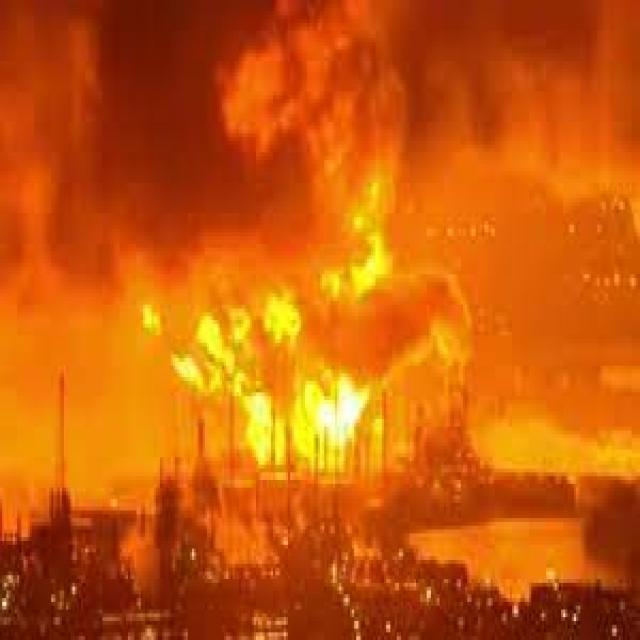fire: (177, 228, 414, 458)
